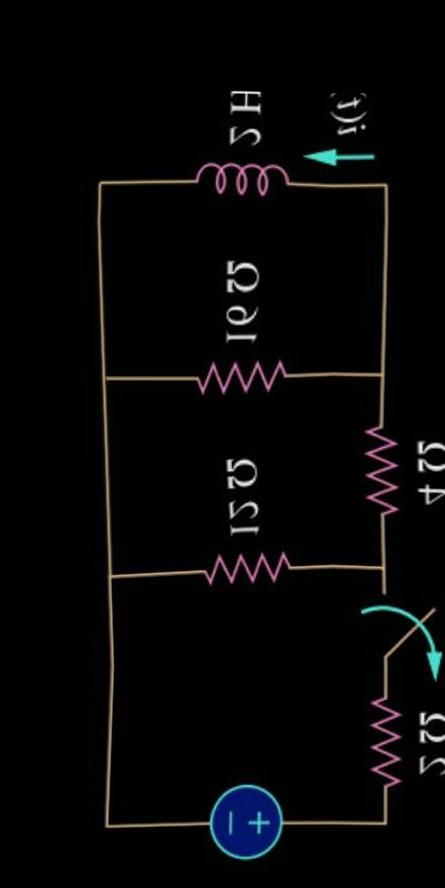Battery: (176, 769, 310, 884)
